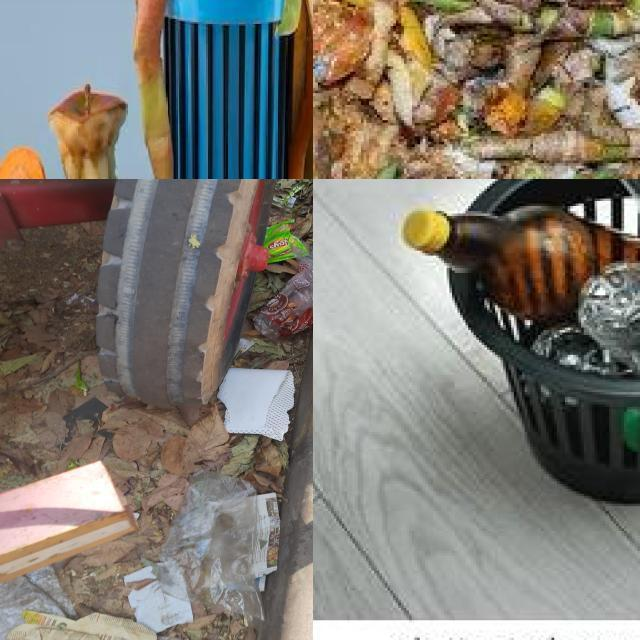Garbage: (0, 179, 313, 640), (313, 0, 640, 179), (404, 179, 640, 377)
Plastic_Bag: (160, 471, 263, 627), (254, 248, 313, 345), (0, 566, 77, 640)
Plastic_wraper: (265, 220, 310, 263)
contaminated_waste: (402, 179, 640, 375)
